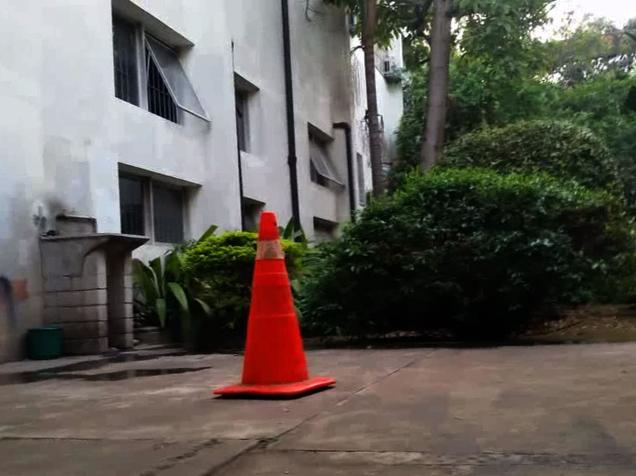0 cone: (215, 212, 336, 396)
